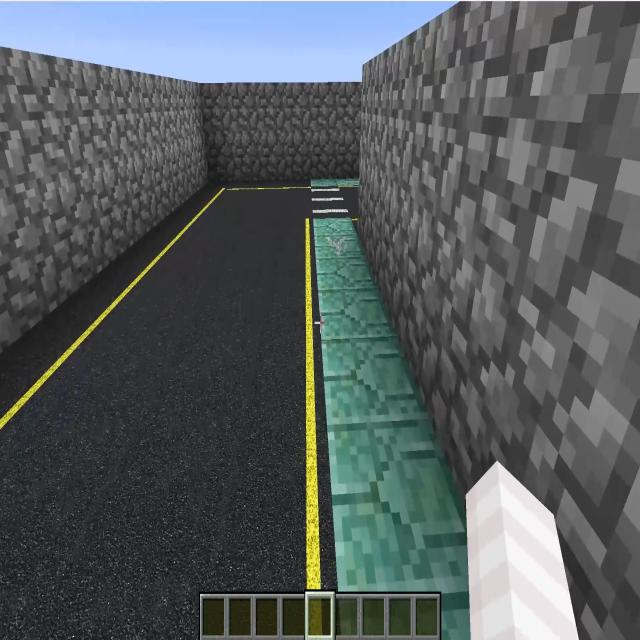crosswalk: (311, 189, 350, 218)
road: (0, 187, 336, 639), (342, 189, 358, 233)
sidewalk: (314, 221, 470, 639), (309, 181, 362, 185)
